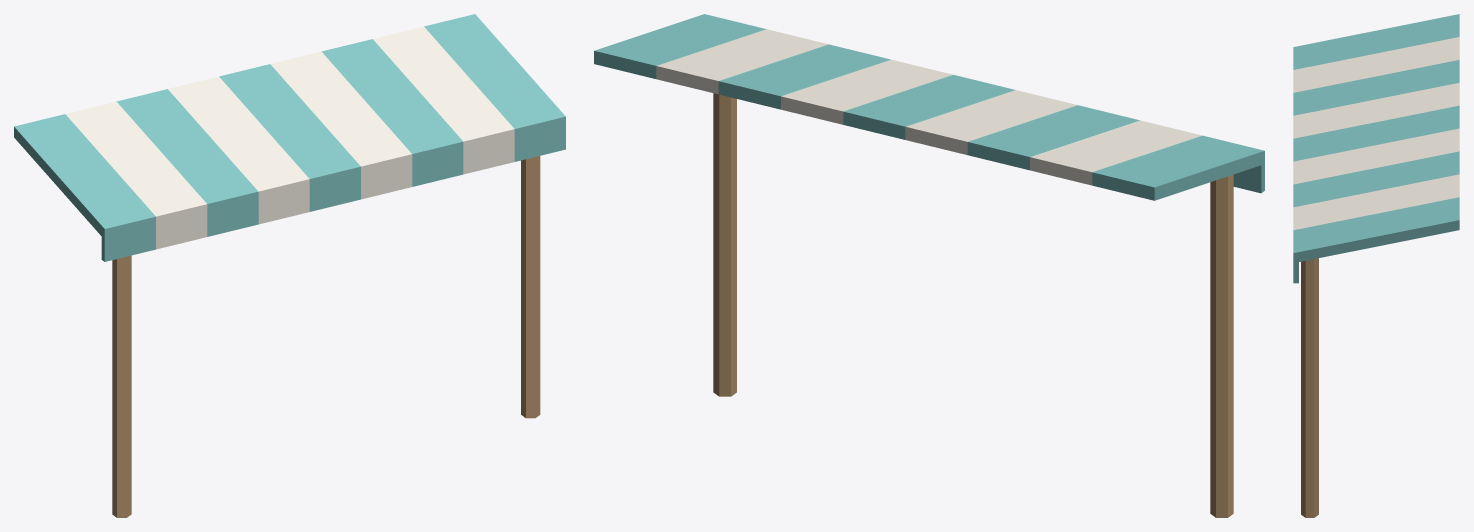
File: awning_w4_4_peach.glb
3 views of the same model, side by side, from view 1: azimuth 30°, elevation 25°; view 2: azimuth 150°, elevation 25°; view 3: azimuth 270°, elevation 25° (orthographic). The views are drawn at different scales.
Visible parts, largest first — view 1: Player; view 2: Player; view 3: Player.
Part boxes in pixels (x1,y1,x2,y2): Player: (14,14,565,517); Player: (594,14,1264,517); Player: (1293,14,1459,517).
Size of the model in its own units: 4.4 by 3.05 by 1.5.
